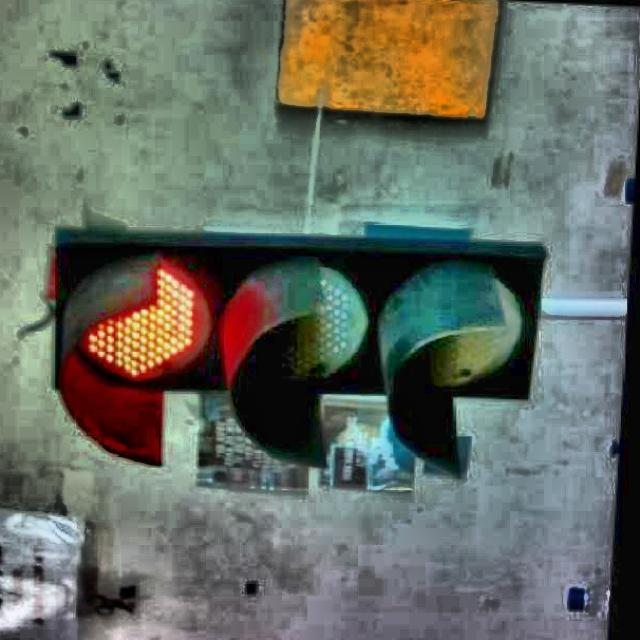red: (50, 218, 541, 422)
